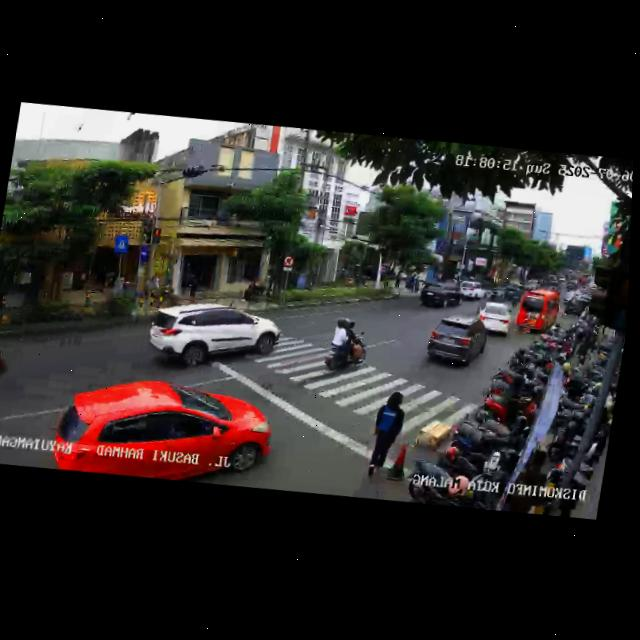car: (47, 364, 277, 494), (141, 291, 281, 382), (421, 312, 489, 374), (515, 284, 564, 338), (418, 278, 466, 313), (474, 298, 513, 337), (0, 329, 14, 393), (562, 290, 592, 317), (459, 279, 489, 303), (500, 283, 523, 301)
motorcycle: (322, 315, 372, 378)
person: (362, 388, 409, 488)
